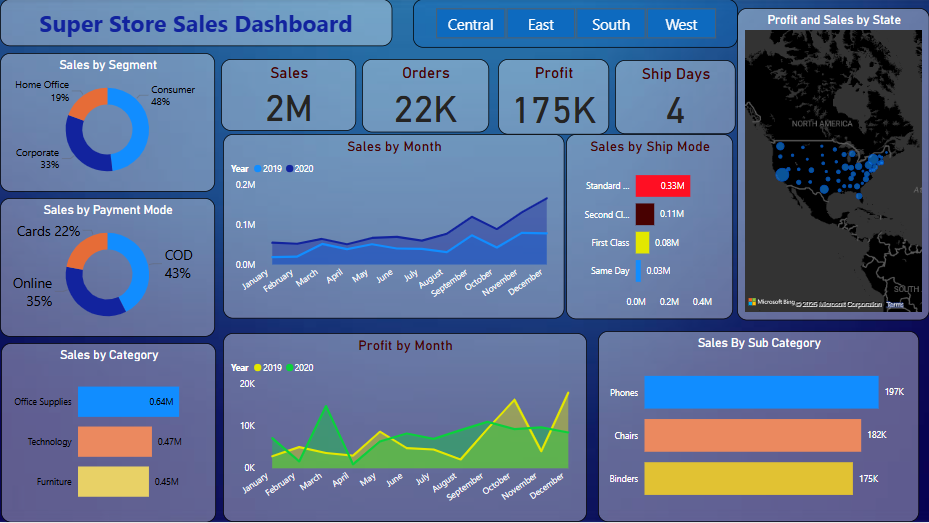

Layout of this report page (visuals, bound fields, positions):
{"tool":"powerbi","page":{"name":"Page 1","canvas":[1280,720],"ordinal":0},"visuals":[{"type":"barChart","title":" Sales by Category","fields":{"Category":["SuperStore_Sales_Dataset.Category"],"Y":["Sum(SuperStore_Sales_Dataset.Sales)"]},"box":[1.7,473.7,295.6,246.9],"z":0},{"type":"barChart","title":"Sales By Sub Category","fields":{"Category":["SuperStore_Sales_Dataset.Sub-Category"],"Y":["Sum(SuperStore_Sales_Dataset.Sales)"]},"box":[823.1,456.9,441.8,262.9],"z":1000},{"type":"barChart","title":"Sales by Ship Mode","fields":{"Category":["SuperStore_Sales_Dataset.Ship Mode"],"Y":["Sum(SuperStore_Sales_Dataset.Sales)"]},"box":[779.4,186.5,230.1,255.3],"z":2000},{"type":"areaChart","title":"Profit by Month","fields":{"Category":["SuperStore_Sales_Dataset.Order Date.Variation.Date Hierarchy.Month","SuperStore_Sales_Dataset.Order Date.Variation.Date Hierarchy.Day"],"Series":["SuperStore_Sales_Dataset.Order Date.Variation.Date Hierarchy.Year"],"Y":["Sum(SuperStore_Sales_Dataset.Profit)"]},"box":[306.9,459.7,501,260.1],"z":3000},{"type":"areaChart","title":"Sales by Month","fields":{"Y":["Sum(SuperStore_Sales_Dataset.Sales)"],"Category":["SuperStore_Sales_Dataset.Order Date.Variation.Date Hierarchy.Month","SuperStore_Sales_Dataset.Order Date.Variation.Date Hierarchy.Day"],"Series":["SuperStore_Sales_Dataset.Order Date.Variation.Date Hierarchy.Year"]},"box":[307.4,186.5,470.3,253.6],"z":4000},{"type":"map","title":"Profit and  Sales by State","fields":{"Category":["SuperStore_Sales_Dataset.State"],"Size":["Sum(SuperStore_Sales_Dataset.Sales)"]},"box":[1014.6,11.8,265.4,430],"z":5000},{"type":"donutChart","title":" Sales by Payment Mode","fields":{"Y":["Sum(SuperStore_Sales_Dataset.Sales)"],"Category":["SuperStore_Sales_Dataset.Payment Mode"]},"box":[0,273.8,295.6,191.5],"z":6000},{"type":"donutChart","title":" Sales by Segment","fields":{"Category":["SuperStore_Sales_Dataset.Segment"],"Y":["Sum(SuperStore_Sales_Dataset.Sales)"]},"box":[0,73.9,295.6,191.5],"z":7000},{"type":"slicer","fields":{"Values":["SuperStore_Sales_Dataset.Region"]},"box":[567.8,0,446.8,67.2],"z":8000},{"type":"textbox","box":[0,0,539.5,64.7],"z":9000},{"type":"card","title":"Sales","fields":{"Values":["Sum(SuperStore_Sales_Dataset.Sales)"]},"box":[304,82.3,186.5,99.1],"z":10000},{"type":"card","title":"Orders","fields":{"Values":["Sum(SuperStore_Sales_Dataset.Quantity)"]},"box":[498.9,82.3,174.7,100.8],"z":11000},{"type":"card","title":"Profit","fields":{"Values":["Sum(SuperStore_Sales_Dataset.Profit)"]},"box":[685.4,82.3,152.9,104.1],"z":12000},{"type":"card","title":"Ship Days","fields":{"Values":["Avg(SuperStore_Sales_Dataset.AvgDelivery)"]},"box":[846.6,84,166.3,102.5],"z":13000}]}

Visuals, with their boxes in screenshot pixels (x1, y1, x2, y2), scaled from the page's 1280x720 canvas onto the 929x523 screenshot:
" Sales by Category" barChart: bbox=[1, 344, 216, 522]
"Sales By Sub Category" barChart: bbox=[597, 332, 918, 522]
"Sales by Ship Mode" barChart: bbox=[566, 135, 733, 321]
"Profit by Month" areaChart: bbox=[223, 334, 586, 522]
"Sales by Month" areaChart: bbox=[223, 135, 564, 320]
"Profit and  Sales by State" map: bbox=[736, 9, 928, 321]
" Sales by Payment Mode" donutChart: bbox=[0, 199, 215, 338]
" Sales by Segment" donutChart: bbox=[0, 54, 215, 193]
slicer - SuperStore_Sales_Dataset.Region: bbox=[412, 0, 736, 49]
textbox: bbox=[0, 0, 392, 47]
"Sales" card: bbox=[221, 60, 356, 132]
"Orders" card: bbox=[362, 60, 489, 133]
"Profit" card: bbox=[497, 60, 608, 135]
"Ship Days" card: bbox=[614, 61, 735, 135]
